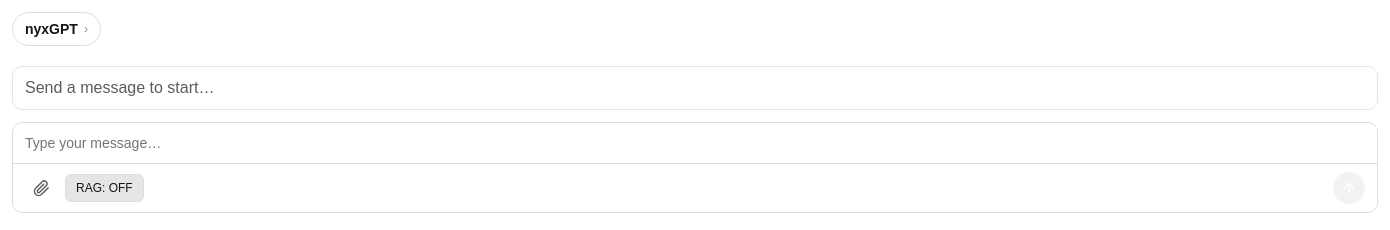
Test case: ChatPane send() SSE streaming › shows an error when the response has no body (streaming unsupported)
Type "no body" into the field with placeholder "Type your message…" at (695, 143), box x1=13 y1=123 x2=1377 y2=163
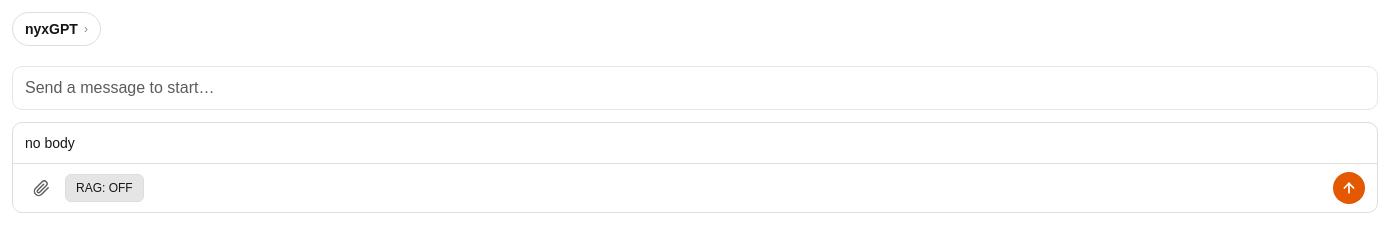
Click the button titled "Send message" at (1349, 188), box x1=1333 y1=172 x2=1365 y2=204
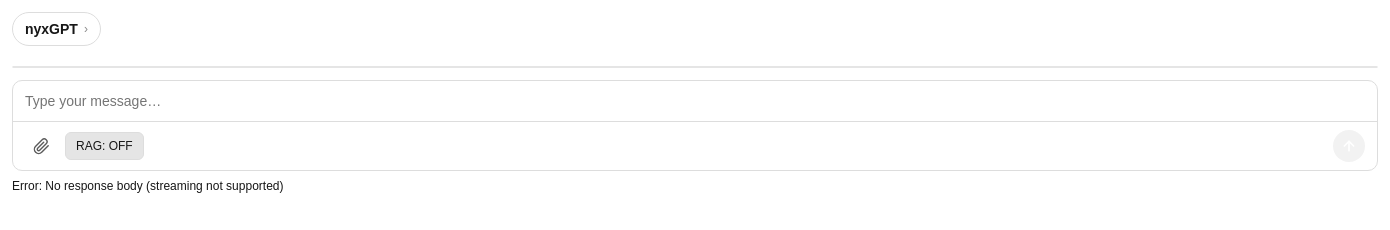
Result: the text "Error: No response body (streaming not supported)" is shown at x1=12 y1=179 x2=284 y2=193
